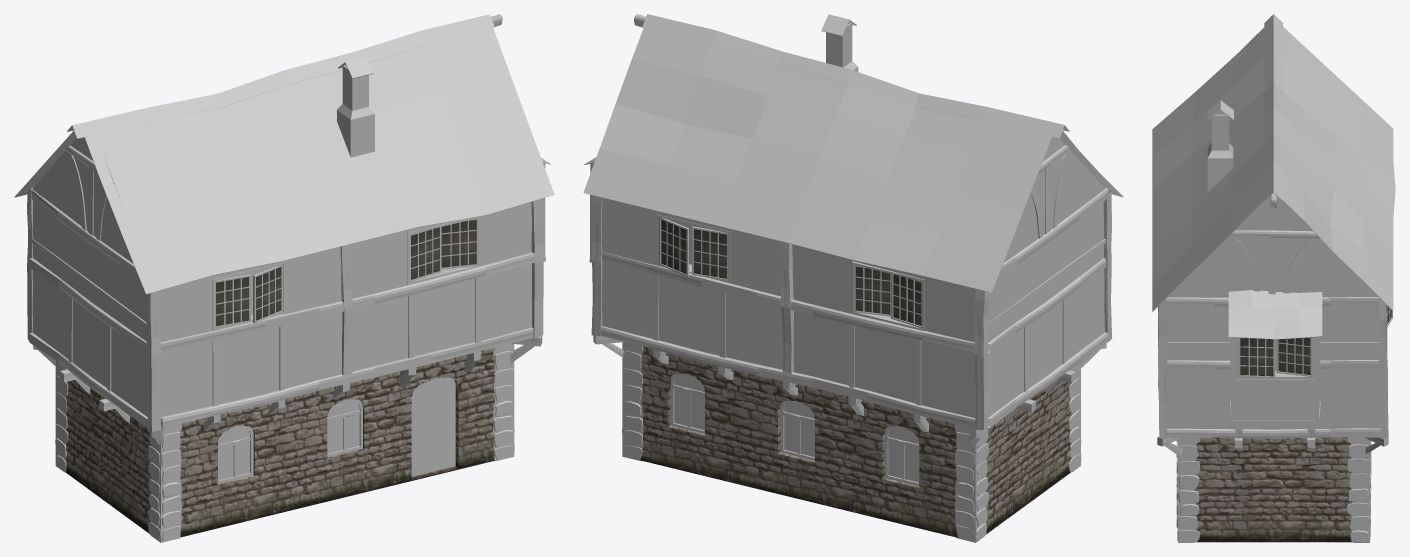
File: building_1.fbx
3 views of the same model, side by side, from view 1: azimuth 30°, elevation 25°; view 2: azimuth 150°, elevation 25°; view 3: azimuth 270°, elevation 25° (orthographic). The views are drawn at different scales.
Parts seen in each view (by area): view 1: building_1; view 2: building_1; view 3: building_1.
Part boxes in pixels (x1,y1,x2,y2): building_1: [14, 14, 554, 542]; building_1: [583, 14, 1123, 542]; building_1: [1152, 14, 1395, 542].
Size of the model in its own units: 17.4 by 15.12 by 8.82.
